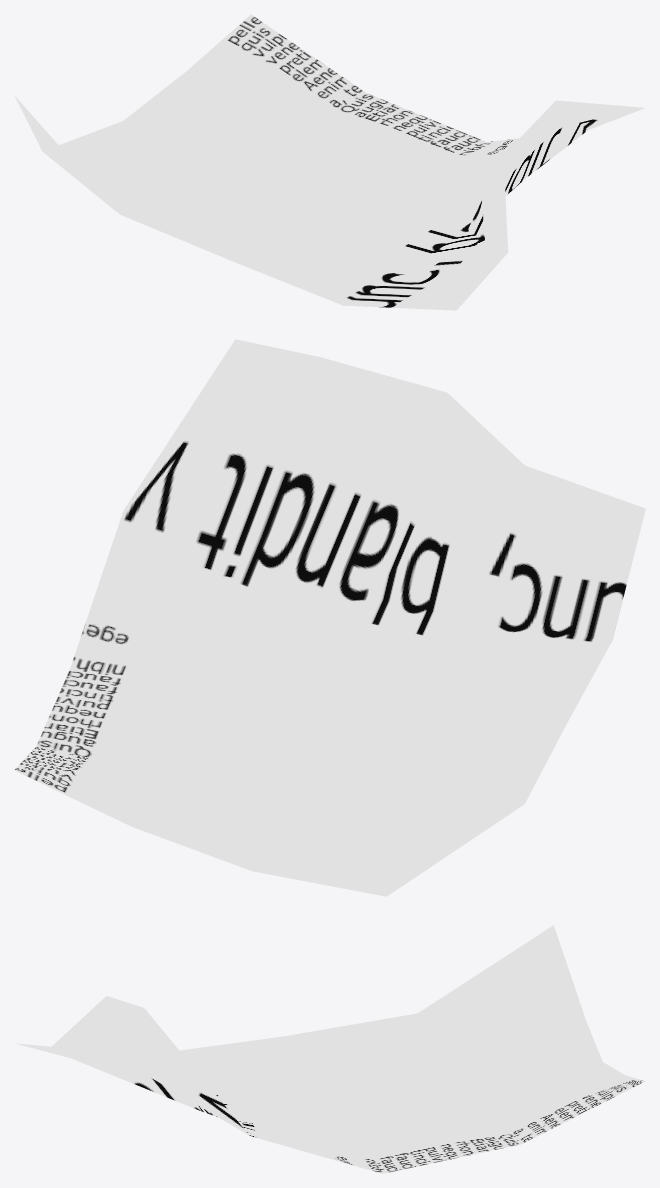
3 views of the same model, one above another, from view 1: azimuth 30°, elevation 25°; view 2: azimuth 150°, elevation 25°; view 3: azimuth 270°, elevation 25° (orthographic). The views are drawn at different scales.
Parts seen in each view (by area): view 1: Plane.022; view 2: Plane.022; view 3: Plane.022.
Part boxes in pixels (x1=…): Plane.022: x1=14, y1=14, x2=645, y2=310; Plane.022: x1=14, y1=339, x2=645, y2=896; Plane.022: x1=15, y1=925, x2=645, y2=1173.
Bounding box in the file's own units: 0.7152 × 0.2533 × 0.9938.
Materials: 1 (1 with a texture image).
